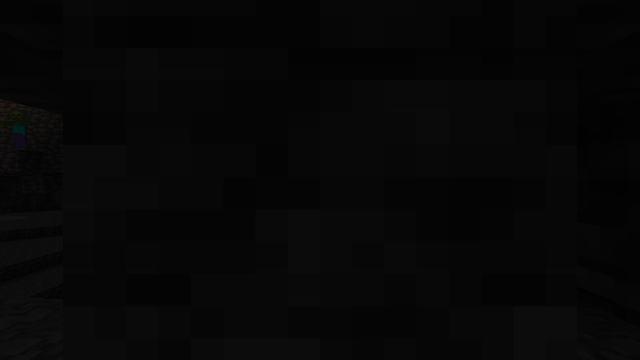zombies: (8, 109, 28, 141)
